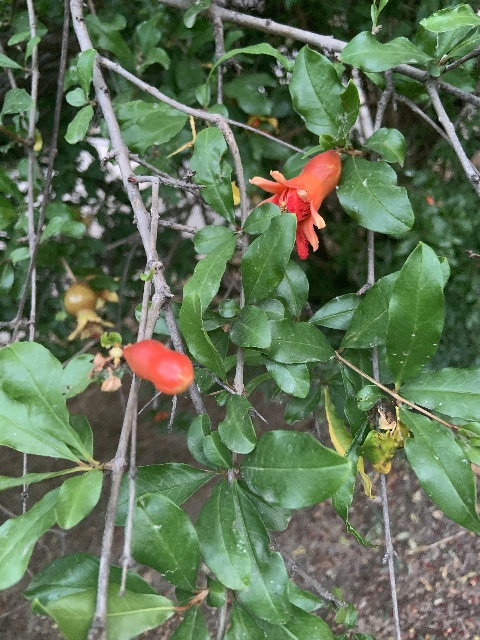bud: (122, 339, 193, 396)
early-fruit: (63, 284, 114, 341)
flower: (247, 148, 341, 260)
